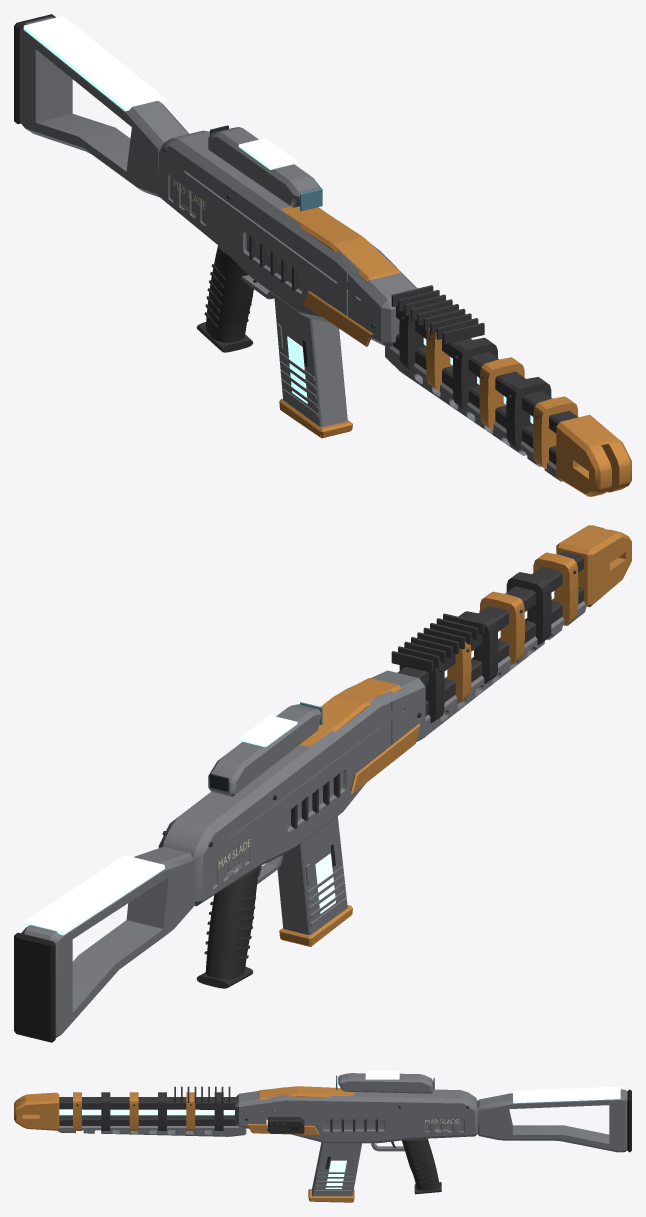
Rendered from slade.glb.
3 renders of one model, top to bottom at view 1: azimuth 30°, elevation 25°; view 2: azimuth 150°, elevation 25°; view 3: azimuth 270°, elevation 25°, orthographic. The views are drawn at different scales.
Visible parts, largest first — view 1: Body; view 2: Body; view 3: Body, opt_laser.
Boxes of the visible parts, x1=… form: Body: x1=14, y1=14, x2=631, y2=496; Body: x1=14, y1=525, x2=631, y2=1042; Body: x1=14, y1=1071, x2=631, y2=1202; opt_laser: x1=266, y1=1117, x2=304, y2=1133.
Size of the model in its own units: 0.075 by 0.2435 by 1.09.
